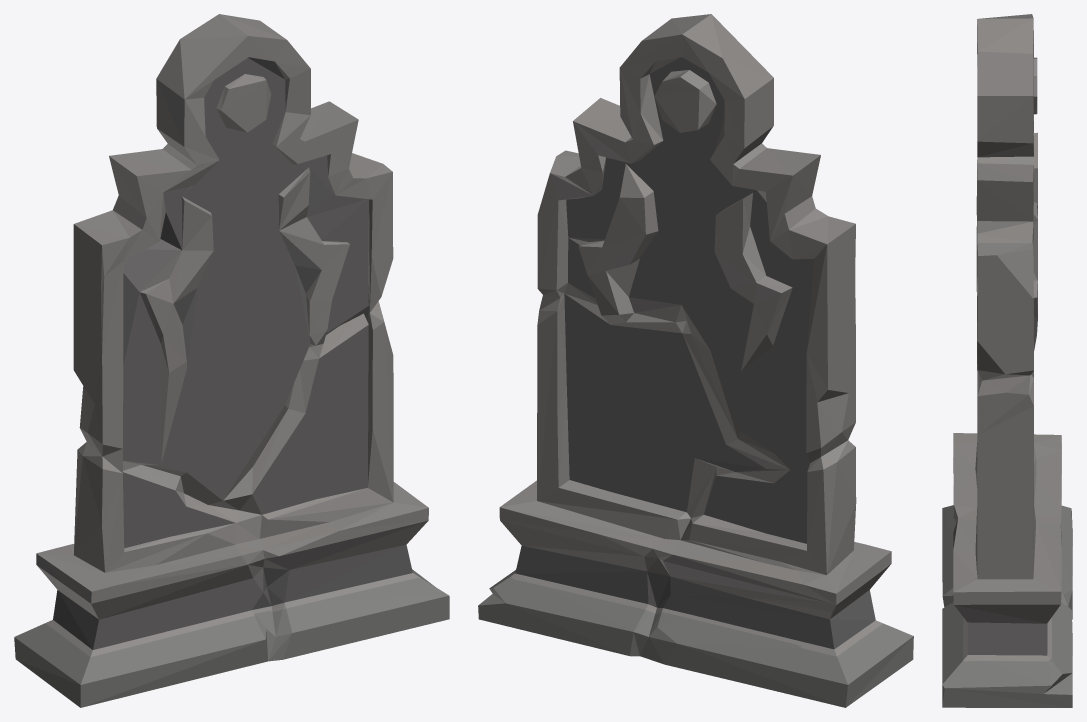
The model's file is SM_Prop_Tombstone_02.fbx.
3 renders of one model, left to right at view 1: azimuth 30°, elevation 25°; view 2: azimuth 150°, elevation 25°; view 3: azimuth 270°, elevation 25°, orthographic. The views are drawn at different scales.
Visible parts, largest first — view 1: SM_Prop_Tombstone_02; view 2: SM_Prop_Tombstone_02; view 3: SM_Prop_Tombstone_02.
Part boxes in pixels (box(x1,y1,x2,y2)): SM_Prop_Tombstone_02: box(14, 14, 449, 707); SM_Prop_Tombstone_02: box(478, 14, 913, 707); SM_Prop_Tombstone_02: box(942, 14, 1072, 707).
Size of the model in its own units: 99.05 by 157 by 30.94.
Materials: 1 (1 with a texture image).
